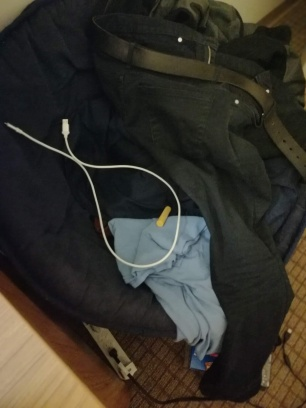chapstick: (155, 205, 173, 228)
